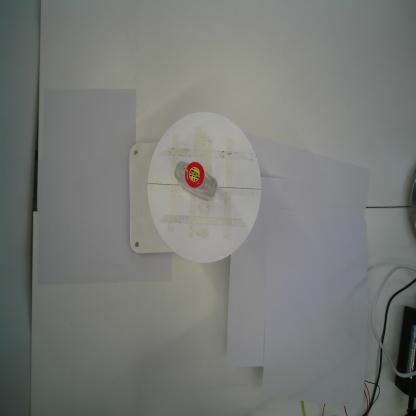Alcohol: (172, 159, 218, 203)
